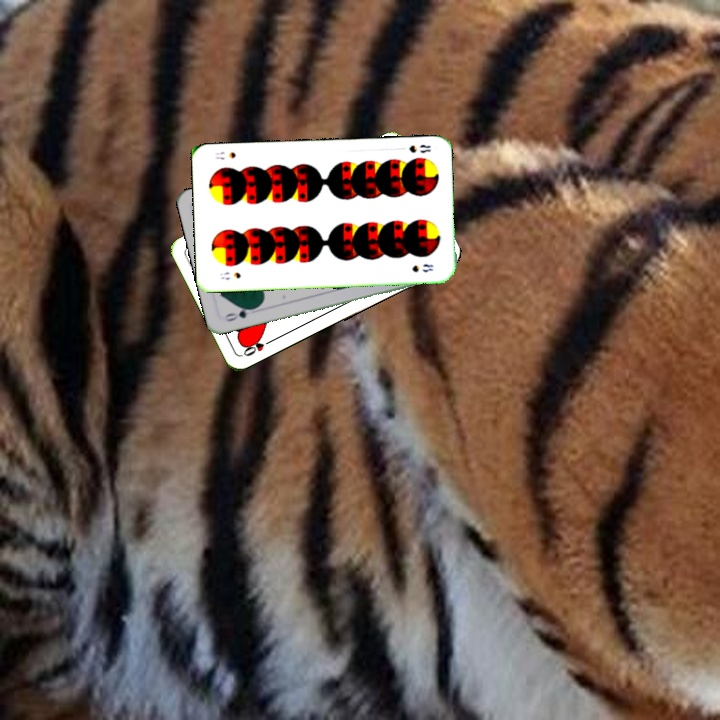GO: (221, 303, 259, 324)
HO: (239, 335, 277, 359)
S8: (405, 141, 433, 155), (216, 268, 243, 282)
